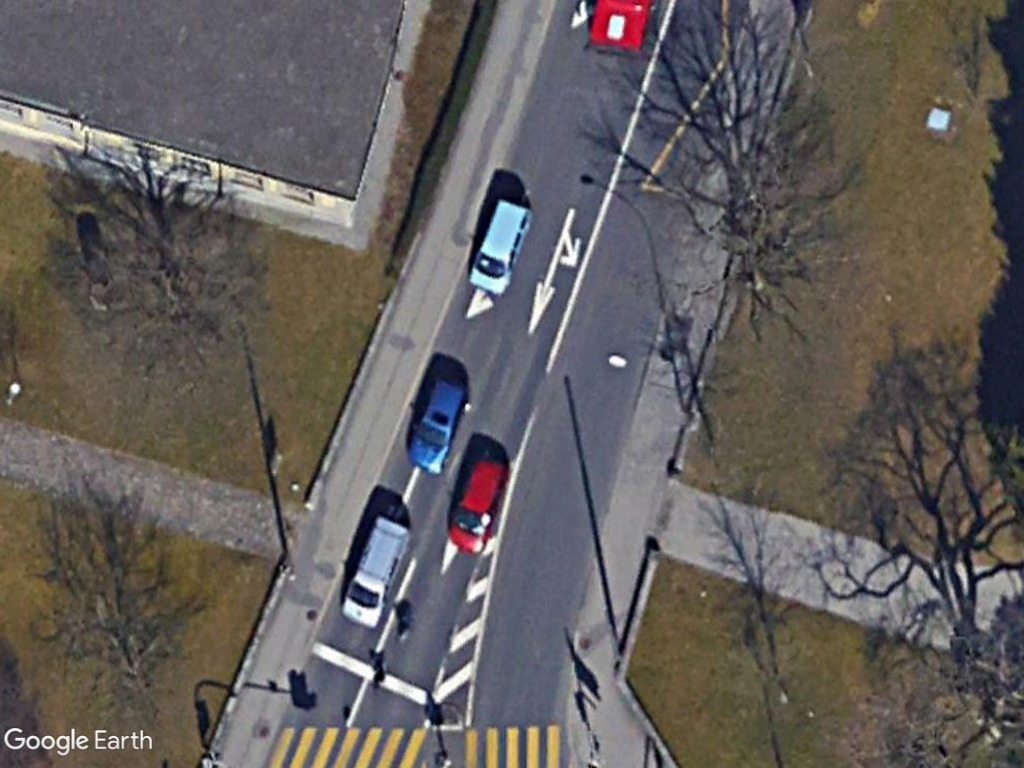car: (445, 447, 512, 557), (405, 378, 472, 476)
van: (337, 509, 414, 632), (467, 191, 534, 296)
